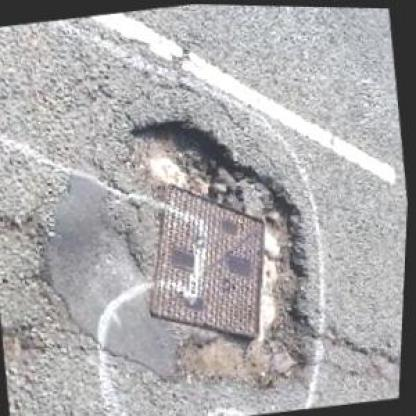pothole: (116, 98, 338, 408)
